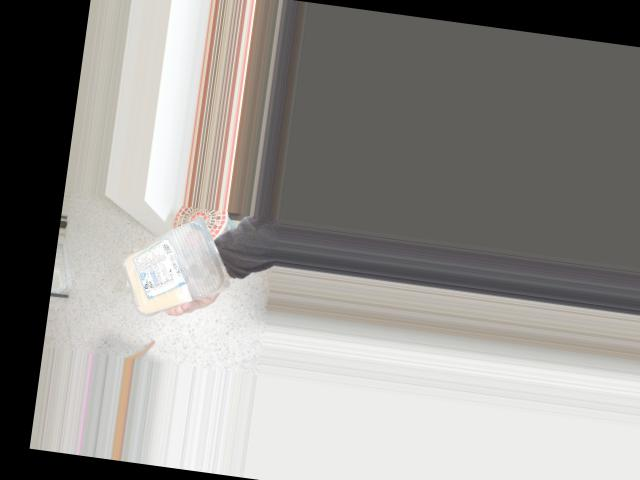cheese: (110, 210, 230, 314)
